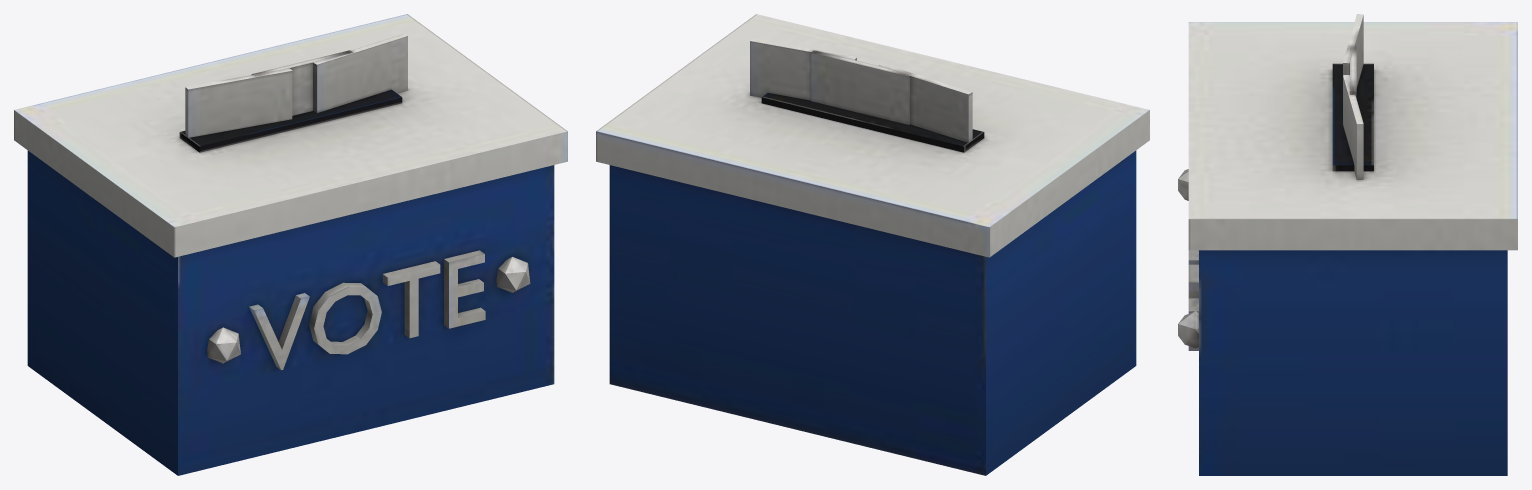
File: urna_voto.glb
3 renders of one model, left to right at view 1: azimuth 30°, elevation 25°; view 2: azimuth 150°, elevation 25°; view 3: azimuth 270°, elevation 25°, orthographic. The views are drawn at different scales.
Visible parts, largest first — view 1: urna_voto; view 2: urna_voto; view 3: urna_voto.
Boxes of the visible parts, x1=… form: urna_voto: x1=14, y1=14, x2=567, y2=475; urna_voto: x1=596, y1=14, x2=1149, y2=475; urna_voto: x1=1178, y1=14, x2=1517, y2=475.
Bounding box in the file's own units: 1.36 × 1.02 × 0.991.
1 material, 1 textured.
